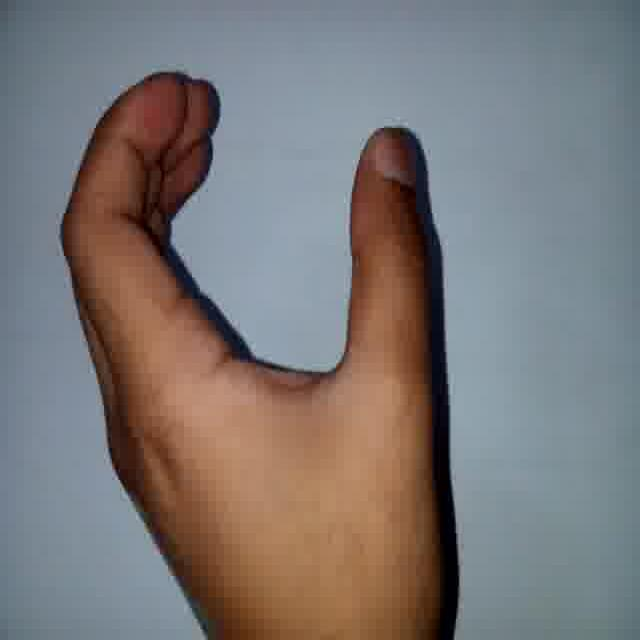Alphabet-C: (61, 63, 461, 620)
